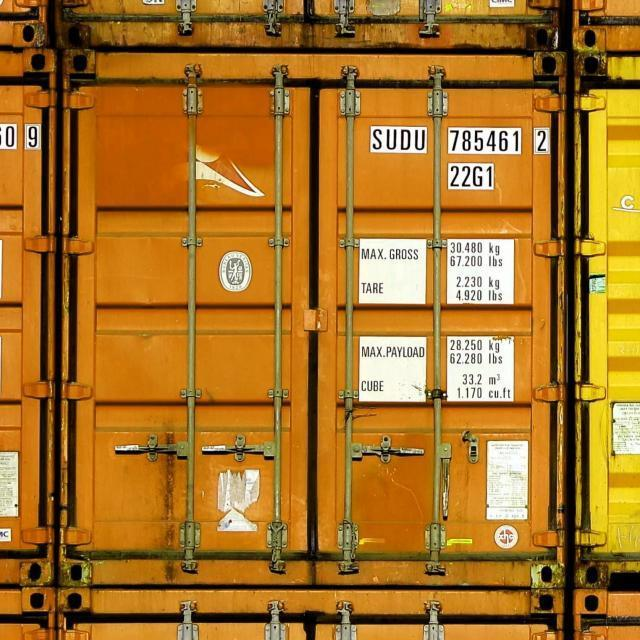ISO: (448, 163, 497, 190)
container_number: (378, 128, 546, 156)
